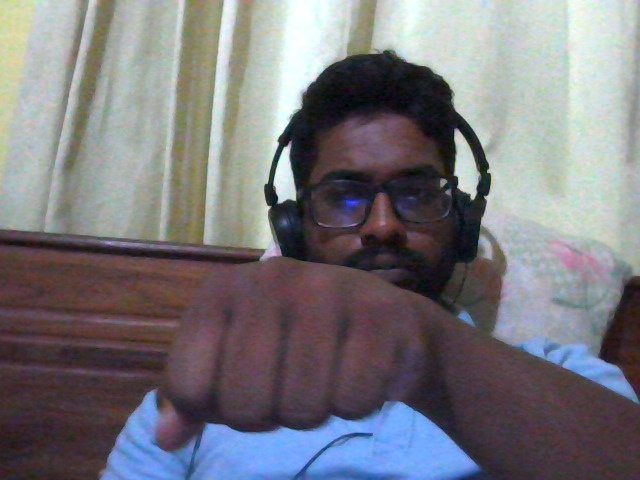Yes: (119, 216, 519, 469)
